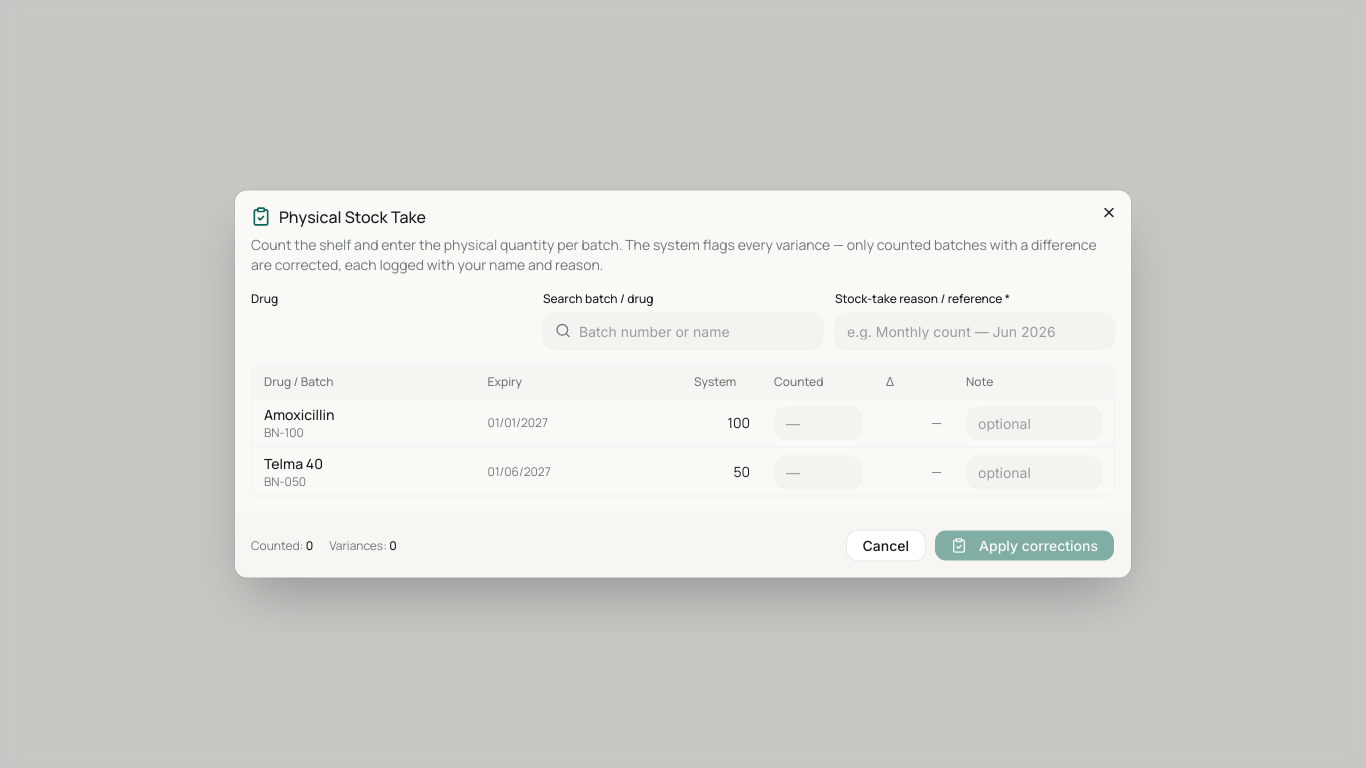
Test: StockTakeDialog (G4 — physical count flags variance before write) › shows a zero delta (no correction) when the count matches the system
This screenshot has width=1366, height=768.
Type "50" into the number field with placeholder "—" in the row of "Telma 40".
click(818, 472); type("50")  # box [774,456,862,488]
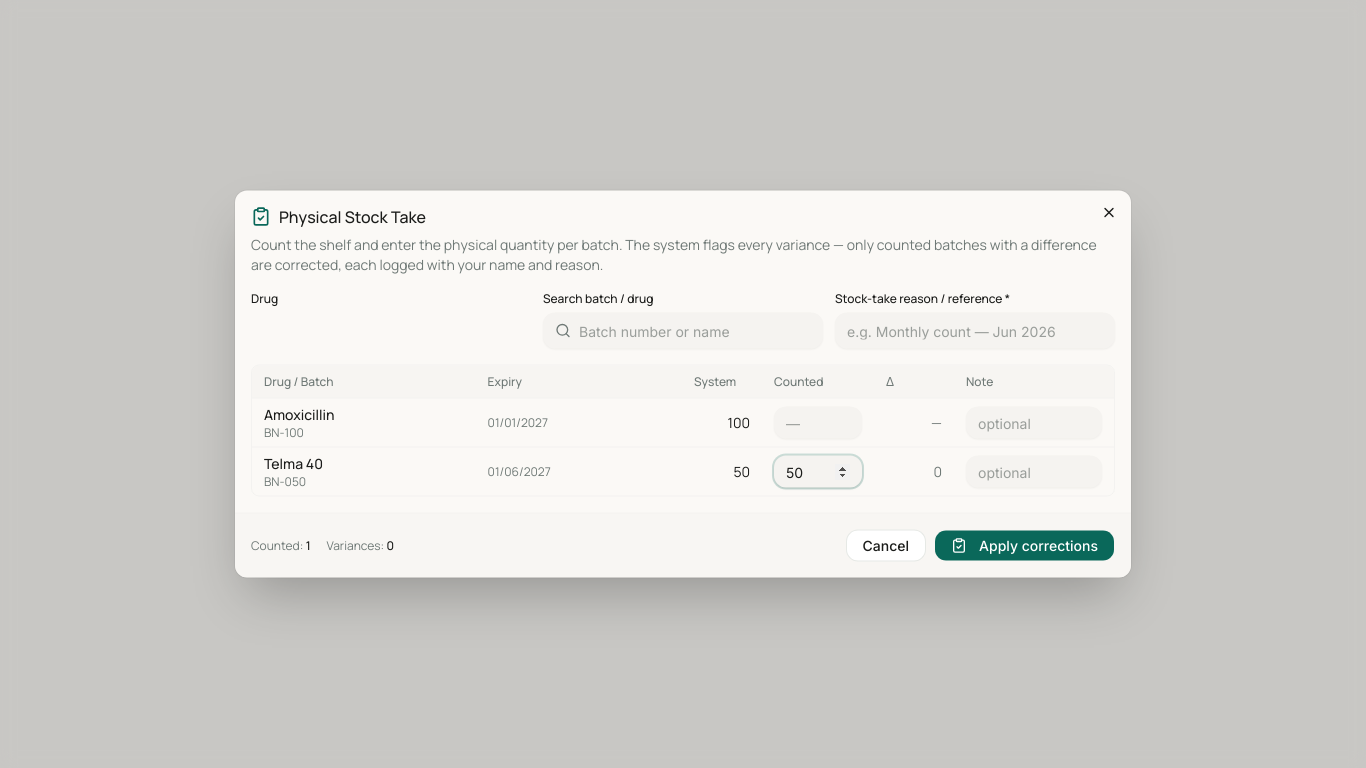
Expected: the text "0" in the row of "Telma 40" is shown, [934,462,942,480]
